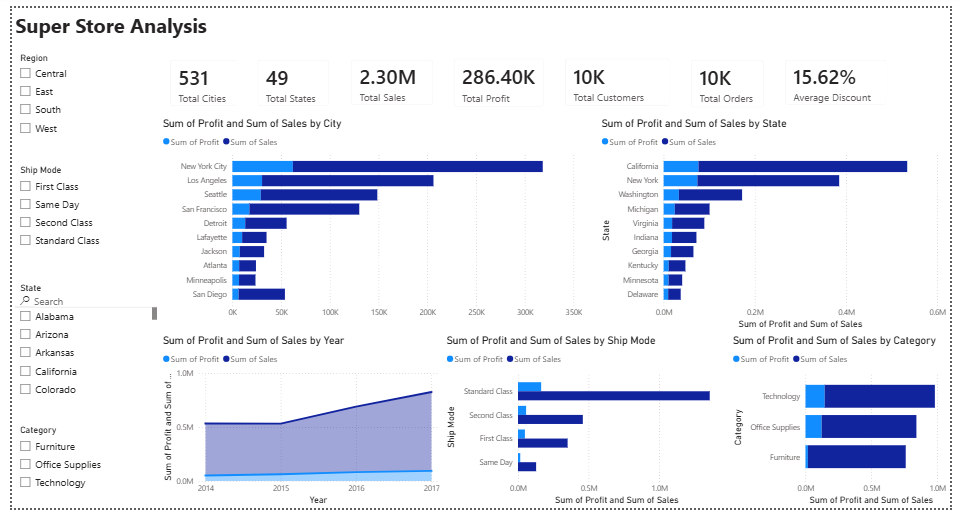

What the dashboard file says about the page in this screenshot:
{"tool":"powerbi","page":{"name":"Page 1","canvas":[1500,800],"ordinal":0},"visuals":[{"type":"textbox","box":[0,0,1500,65],"z":0},{"type":"cardVisual","fields":{"Data":["superstore.Total States"]},"box":[376.7,65,148.3,108.3],"z":1000},{"type":"cardVisual","fields":{"Data":["superstore.Total Cities"]},"box":[236.7,65,140,108.3],"z":2000},{"type":"cardVisual","fields":{"Data":["superstore.Total_Sales"]},"box":[525,66.7,165,106.7],"z":3000},{"type":"cardVisual","fields":{"Data":["superstore.Avg_Discount"]},"box":[1220,66.7,196.7,106.7],"z":4000},{"type":"stackedAreaChart","fields":{"Category":["superstore.Date_Value.Variation.Date Hierarchy.Year"],"Y":["Sum(superstore.Profit)","Sum(superstore.Sales)"]},"box":[236.7,521.7,453.3,278.3],"z":5000},{"type":"cardVisual","fields":{"Data":["superstore.Total_Profit"]},"box":[690,63.3,178.3,111.7],"z":6000},{"type":"cardVisual","fields":{"Data":["superstore.Total_Customers"]},"box":[868.3,63.3,201.7,110],"z":7000},{"type":"cardVisual","fields":{"Data":["superstore.Total_Orders"]},"box":[1070,66.7,150,110],"z":8000},{"type":"clusteredBarChart","fields":{"Category":["superstore.Ship Mode"],"Y":["Sum(superstore.Profit)","Sum(superstore.Sales)"]},"box":[690,521.7,455,278.3],"z":9000},{"type":"barChart","fields":{"Category":["superstore.Category"],"Y":["Sum(superstore.Profit)","Sum(superstore.Sales)"]},"box":[1148.3,521.7,351.7,278.3],"z":10000},{"type":"barChart","fields":{"Category":["superstore.State"],"Y":["Sum(superstore.Profit)","Sum(superstore.Sales)"]},"box":[938.3,173.3,561.7,345],"z":11000},{"type":"barChart","fields":{"Category":["superstore.City"],"Y":["Sum(superstore.Profit)","Sum(superstore.Sales)"]},"box":[236.7,173.3,681.7,345],"z":12000},{"type":"slicer","fields":{"Values":["superstore.Region"]},"box":[0,66.7,236.7,151.7],"z":13000},{"type":"slicer","fields":{"Values":["superstore.State"]},"box":[0,433.3,236.7,198.3],"z":14000},{"type":"slicer","fields":{"Values":["superstore.Ship Mode"]},"box":[0,246.7,236.7,153.3],"z":15000},{"type":"slicer","fields":{"Values":["superstore.Category"]},"box":[0,661.7,236.7,138.3],"z":16000}]}

Visuals, with their boxes in screenshot pixels (x1, y1, x2, y2), scaled from the page's 1500x800 canvas onto the 961x518 screenshot:
textbox: region(0, 0, 960, 42)
cardVisual - superstore.Total States: region(241, 42, 336, 112)
cardVisual - superstore.Total Cities: region(152, 42, 241, 112)
cardVisual - superstore.Total_Sales: region(336, 43, 442, 112)
cardVisual - superstore.Avg_Discount: region(782, 43, 908, 112)
stackedAreaChart - superstore.Date_Value.Variation.Date Hierarchy.Year x Sum(superstore.Profit): region(152, 338, 442, 517)
cardVisual - superstore.Total_Profit: region(442, 41, 556, 113)
cardVisual - superstore.Total_Customers: region(556, 41, 686, 112)
cardVisual - superstore.Total_Orders: region(686, 43, 782, 114)
clusteredBarChart - superstore.Ship Mode x Sum(superstore.Profit): region(442, 338, 734, 517)
barChart - superstore.Category x Sum(superstore.Profit): region(736, 338, 960, 517)
barChart - superstore.State x Sum(superstore.Profit): region(601, 112, 960, 336)
barChart - superstore.City x Sum(superstore.Profit): region(152, 112, 588, 336)
slicer - superstore.Region: region(0, 43, 152, 141)
slicer - superstore.State: region(0, 281, 152, 409)
slicer - superstore.Ship Mode: region(0, 160, 152, 259)
slicer - superstore.Category: region(0, 428, 152, 517)
